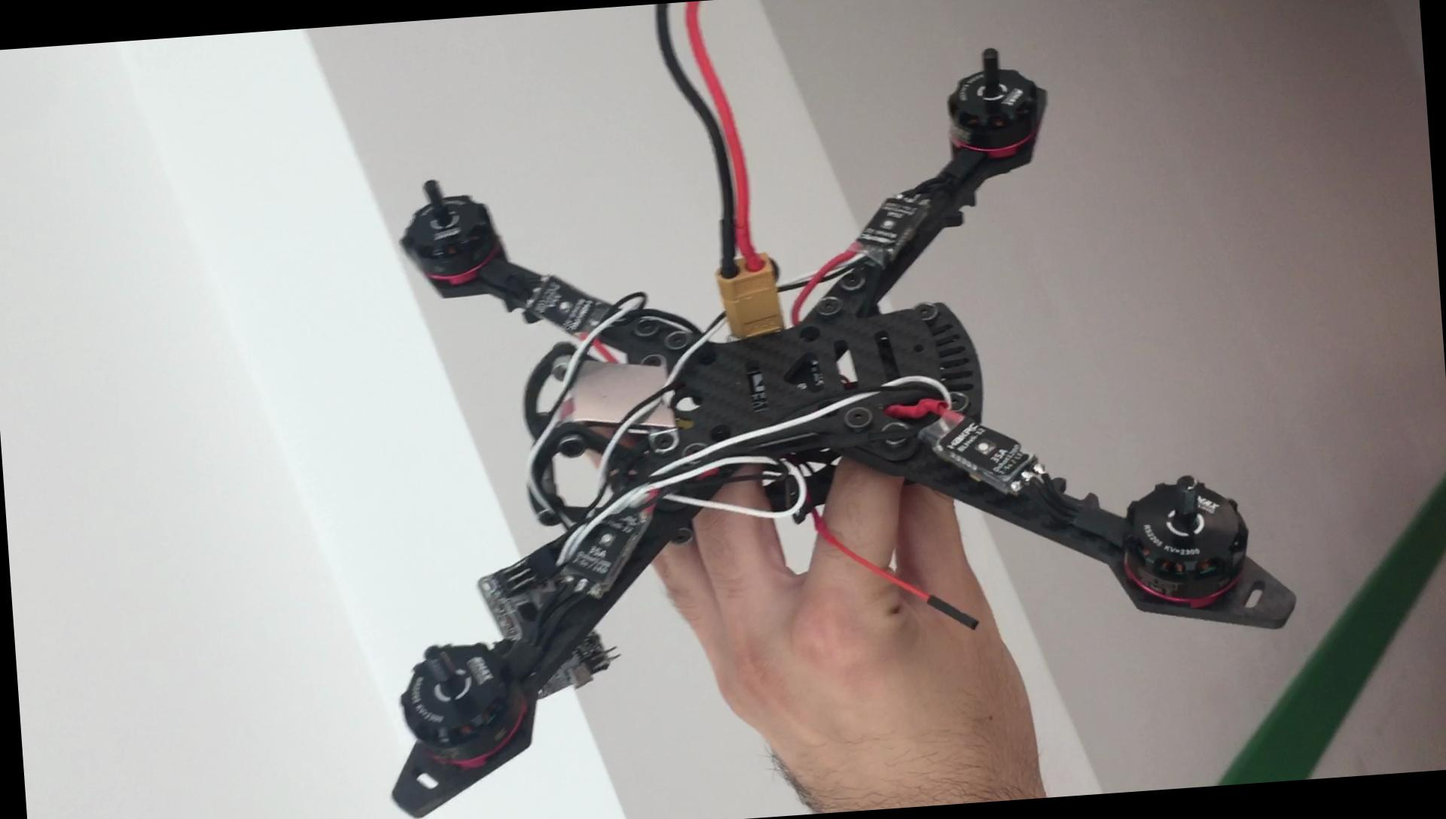drone: (345, 42, 1316, 819)
